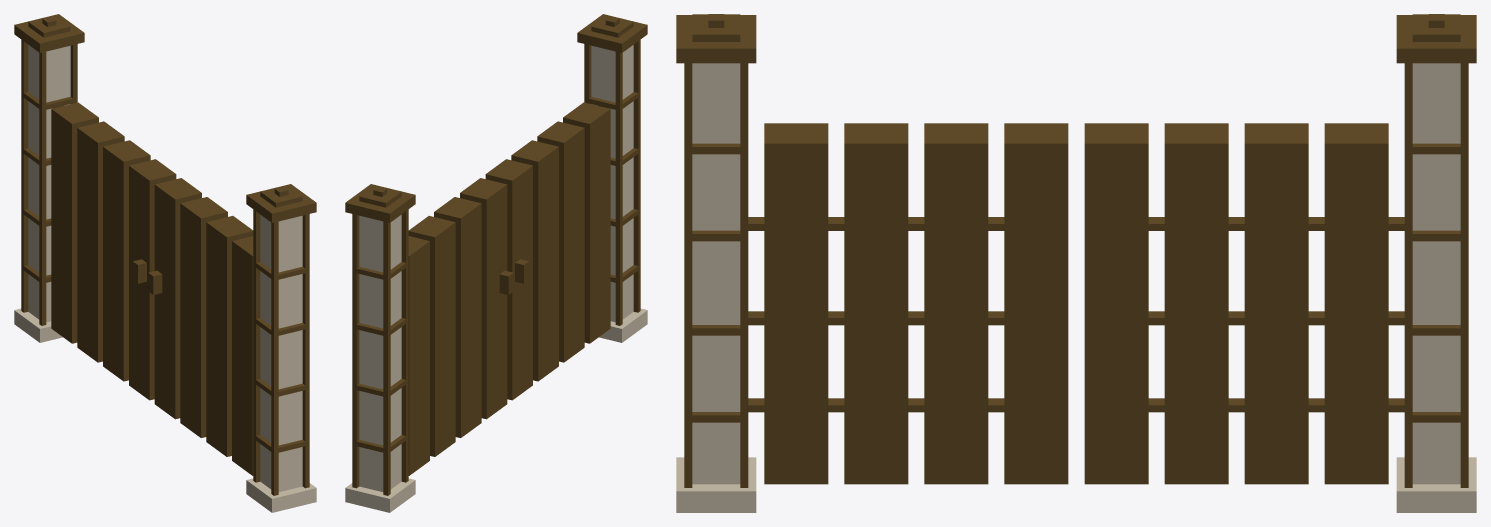
Rendered from Background_C_wall_01.FBX.
The picture shows the model from 3 angles, left to right: view 1: azimuth 30°, elevation 25°; view 2: azimuth 150°, elevation 25°; view 3: azimuth 270°, elevation 25°; orthographic projection. The views are drawn at different scales.
Parts seen in each view (by area): view 1: Background_C-0; view 2: Background_C-0; view 3: Background_C-0.
Part boxes in pixels (x1,y1,x2,y2): Background_C-0: [14, 14, 316, 512]; Background_C-0: [345, 14, 647, 512]; Background_C-0: [676, 14, 1476, 512].
Bounding box in the file's own units: 1 × 6.6 × 10.
Materials: 1 (1 with a texture image).
